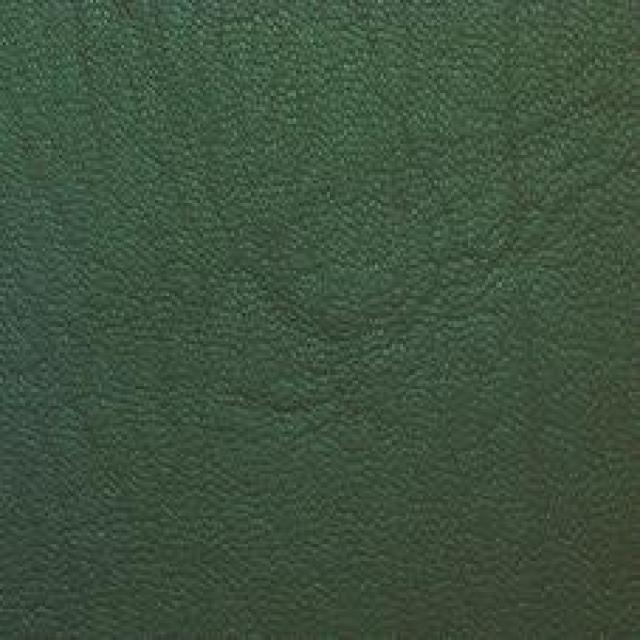Growth Marks: (294, 214, 524, 374)
